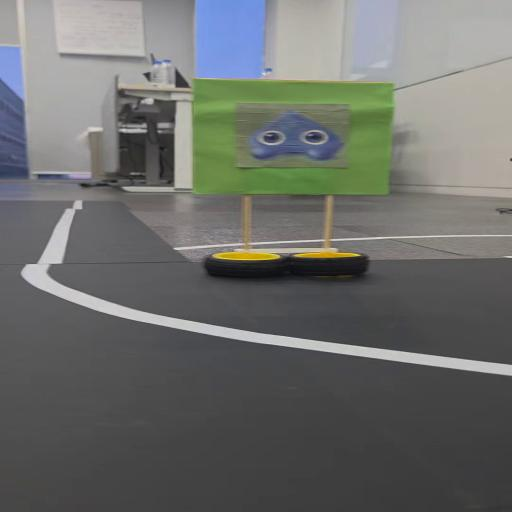Sign_B: (185, 78, 414, 282)
